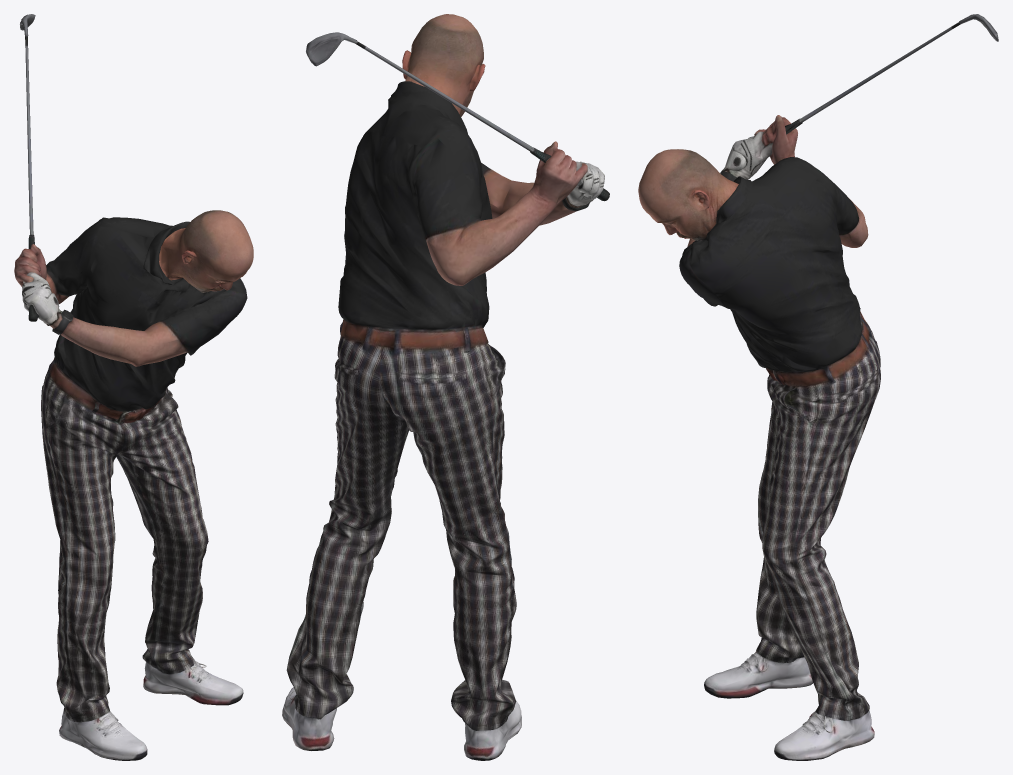
Rendered from golfer.glb.
3 renders of one model, left to right at view 1: azimuth 30°, elevation 25°; view 2: azimuth 150°, elevation 25°; view 3: azimuth 270°, elevation 25°, orthographic. The views are drawn at different scales.
Parts seen in each view (by area): view 1: Geom3D; view 2: Geom3D; view 3: Geom3D.
Boxes of the visible parts, x1=… form: Geom3D: x1=14, y1=14, x2=253, y2=760; Geom3D: x1=282, y1=14, x2=609, y2=760; Geom3D: x1=638, y1=14, x2=998, y2=760.
Bounding box in the file's own units: 0.6544 × 1.71 × 0.815.
1 material, 1 textured.
